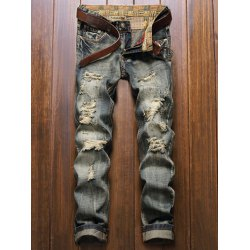jeans: (69, 4, 176, 242)
